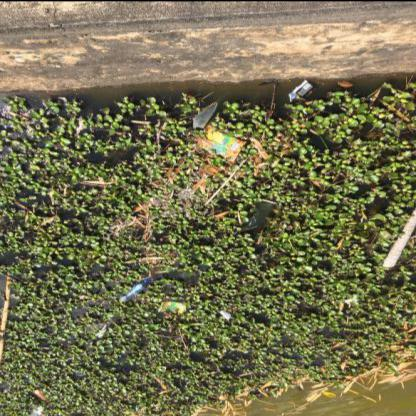Bottle: (145, 277, 150, 281)
Bottle cap: (120, 277, 150, 300)
Plastic bag - wrapper: (198, 124, 248, 162), (194, 100, 218, 128), (289, 79, 316, 101), (243, 209, 263, 228), (156, 300, 186, 312), (84, 322, 108, 336)
Unlabeled litter: (219, 308, 231, 320), (32, 405, 44, 414), (28, 410, 43, 415), (118, 352, 124, 356)
